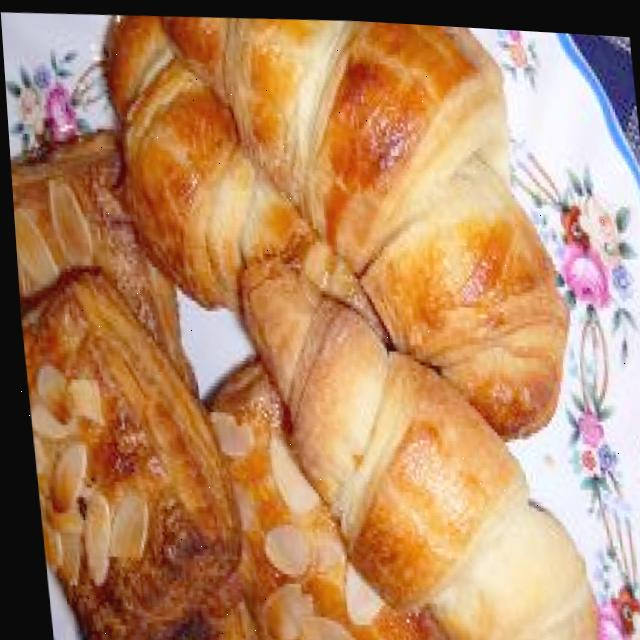面包点心: (74, 3, 602, 640)
